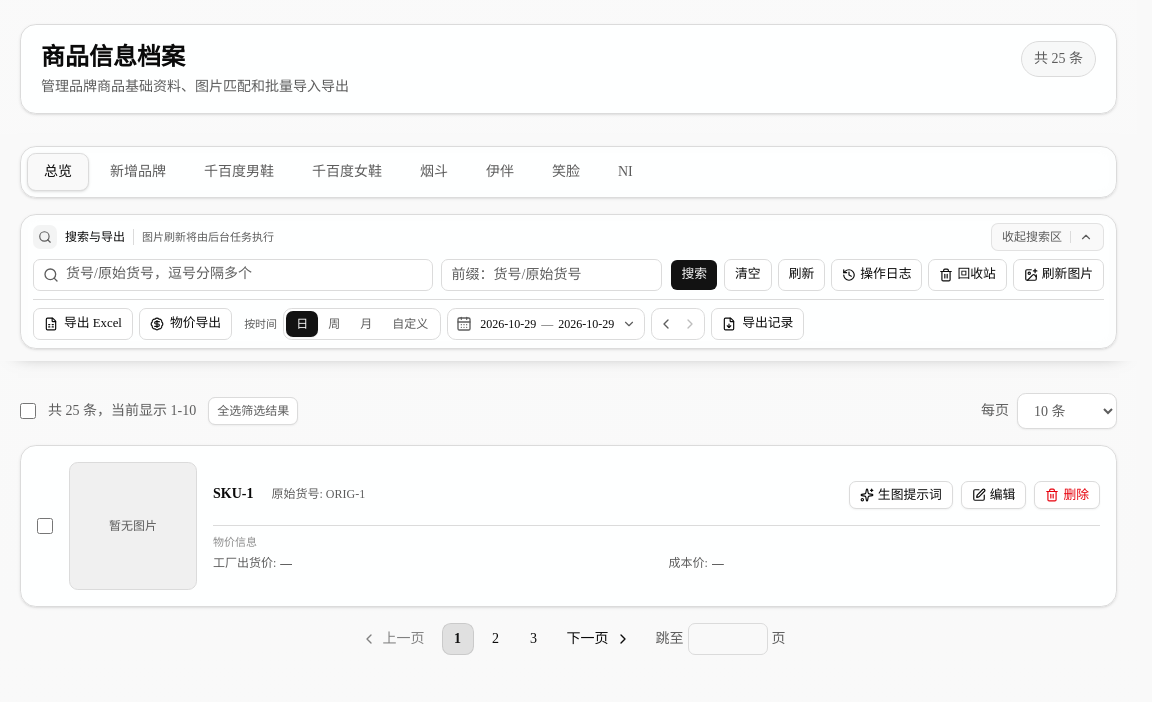
Test case: repeating the same search clears selection and ignores a late select-all response
The image size is (1152, 702).
Expected: the checkbox named "选择当前页全部商品" is enabled, [20, 403, 36, 419]
Click the checkbox named "选择商品 SKU-1" at (45, 526), box [37, 518, 53, 534]
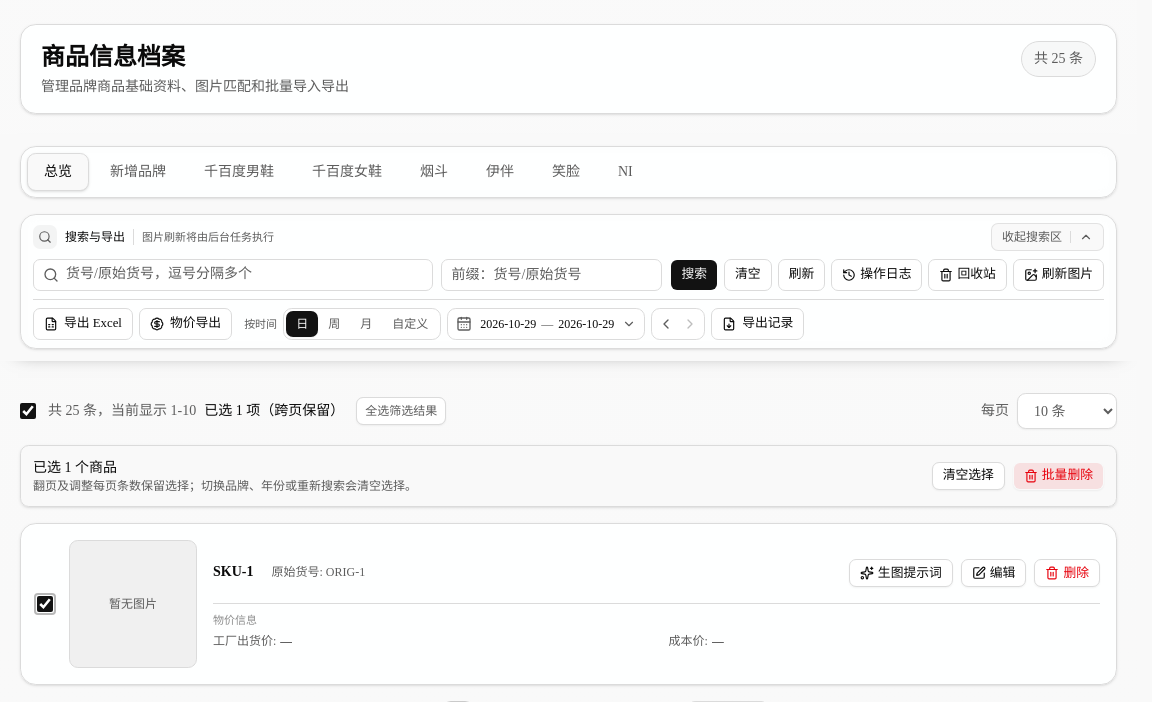
Click the button "全选筛选结果" at (401, 411), box [356, 397, 446, 425]
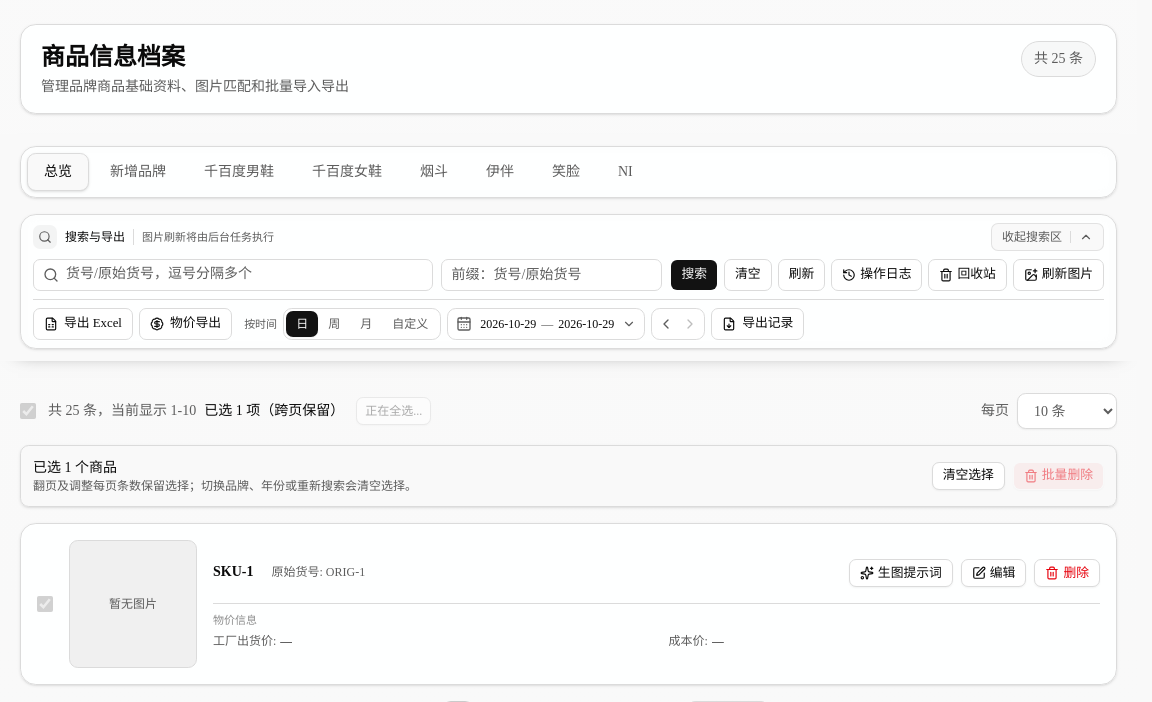
Expected: the button "正在全选..." is disabled, [356, 397, 431, 425]
Expected: the checkbox named "选择商品 SKU-1" is disabled, [37, 596, 53, 612]
Click the button "搜索" at (694, 275), box [670, 259, 718, 291]
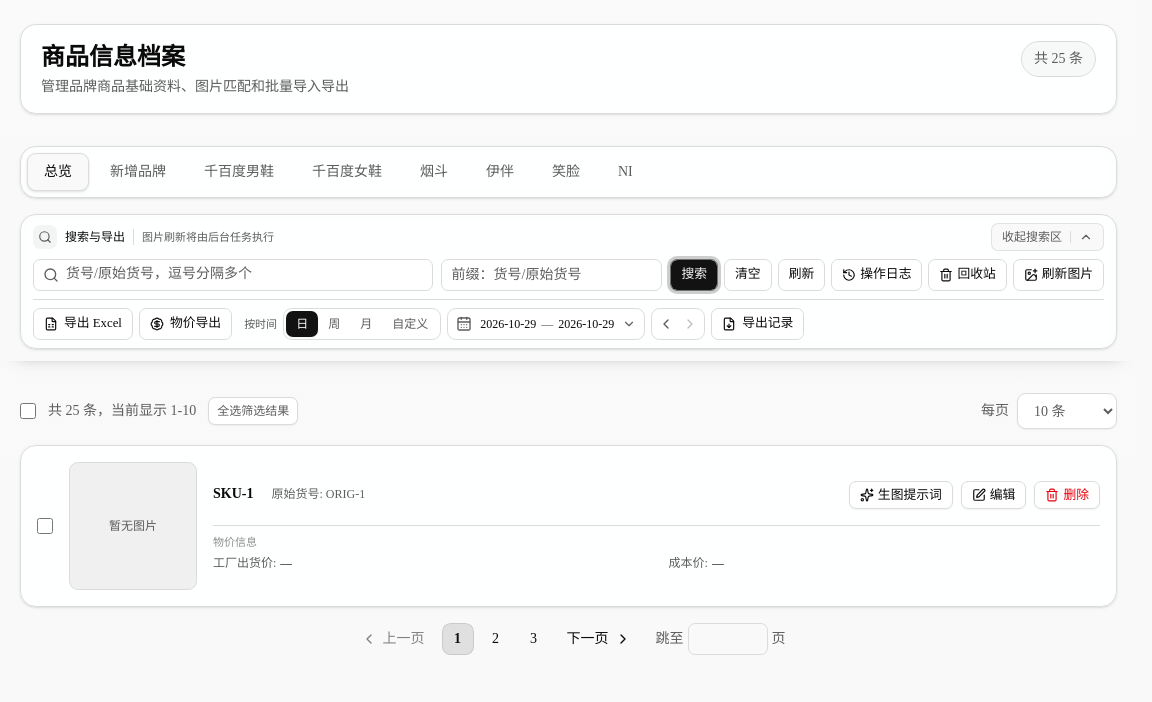
Expected: the checkbox named "选择商品 SKU-1" is not checked, [37, 518, 53, 534]
Expected: the button "批量删除" is gone
